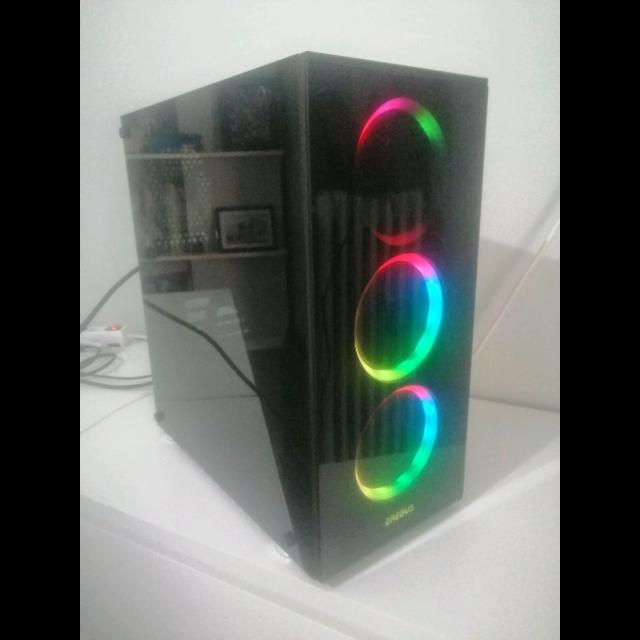Desktop-PC: (124, 47, 490, 536)
